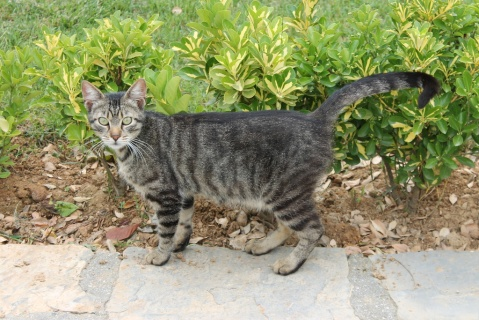Cat: (81, 71, 441, 275)
